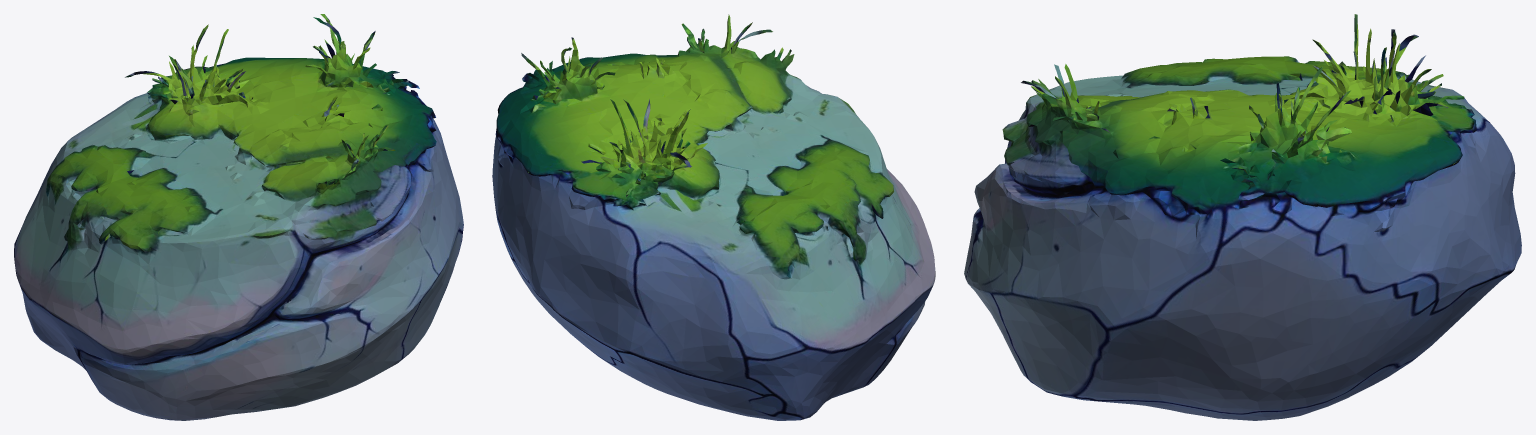
Rendered from rock.glb.
The picture shows the model from 3 angles, left to right: view 1: azimuth 30°, elevation 25°; view 2: azimuth 150°, elevation 25°; view 3: azimuth 270°, elevation 25°; orthographic projection. The views are drawn at different scales.
Parts seen in each view (by area): view 1: tmpb8b0fx7d.ply; view 2: tmpb8b0fx7d.ply; view 3: tmpb8b0fx7d.ply.
Part boxes in pixels (x1,y1,x2,y2): tmpb8b0fx7d.ply: [14, 14, 463, 420]; tmpb8b0fx7d.ply: [492, 14, 935, 420]; tmpb8b0fx7d.ply: [964, 14, 1521, 420].
Bounding box in the file's own units: 1.99 × 1.53 × 1.99.
Materials: 1 (1 with a texture image).
